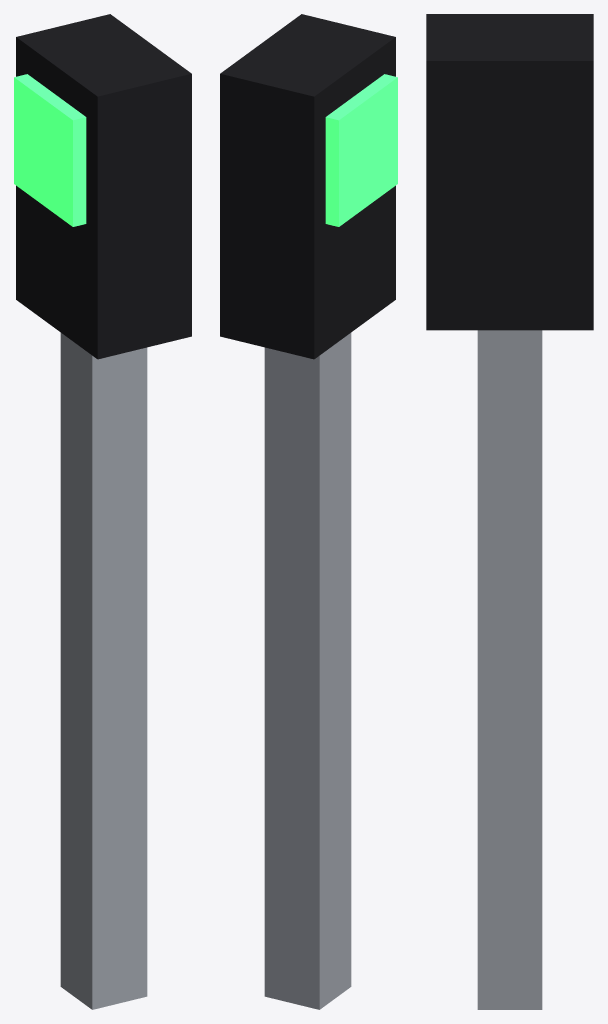
File: signal_green.glb
The picture shows the model from 3 angles, left to right: view 1: azimuth 30°, elevation 25°; view 2: azimuth 150°, elevation 25°; view 3: azimuth 270°, elevation 25°; orthographic projection. The views are drawn at different scales.
Visible parts, largest first — view 1: Post, Head, Lamp; view 2: Post, Head, Lamp; view 3: Head, Post.
Part boxes in pixels (x1,y1,x2,y2): Post: [60, 333, 147, 1009]; Head: [16, 14, 191, 359]; Lamp: [14, 74, 86, 226]; Post: [264, 333, 351, 1009]; Head: [220, 14, 395, 359]; Lamp: [325, 74, 397, 226]; Head: [426, 14, 593, 330]; Post: [477, 330, 542, 1009].
Bounding box in the file's own units: 0.137 × 1.14 × 0.18.
